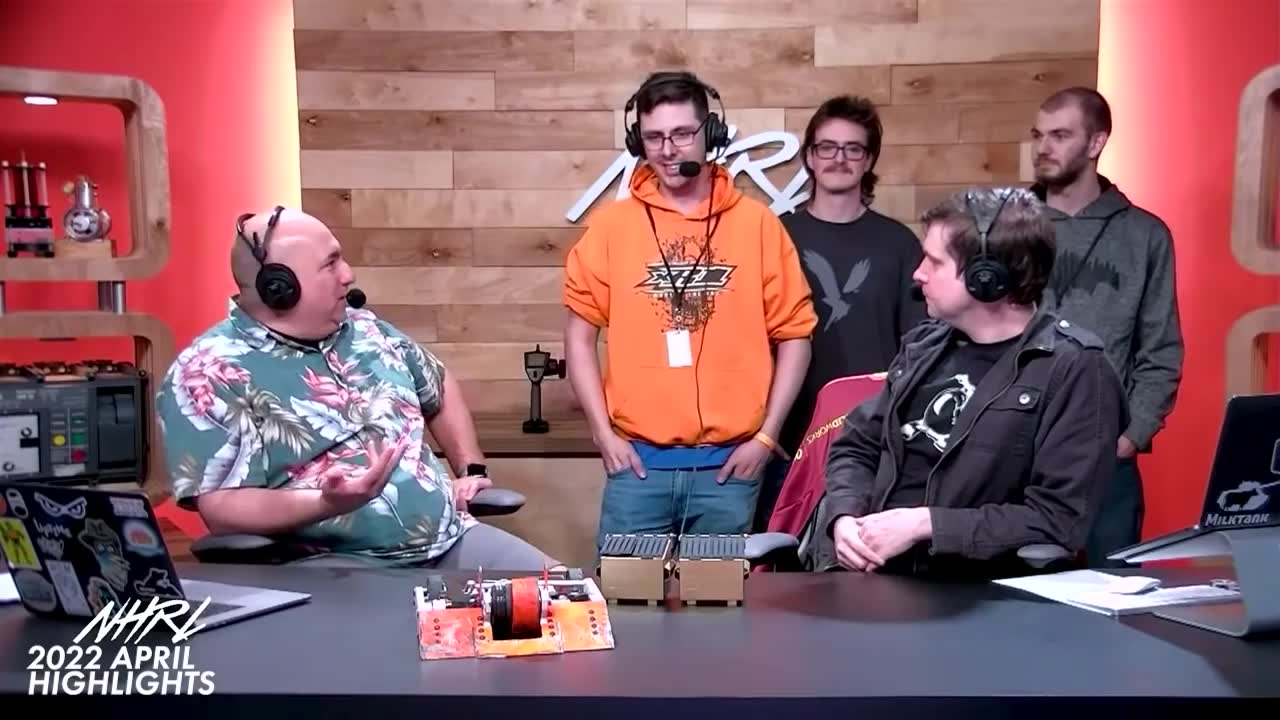combatbot: (411, 563, 616, 665)
